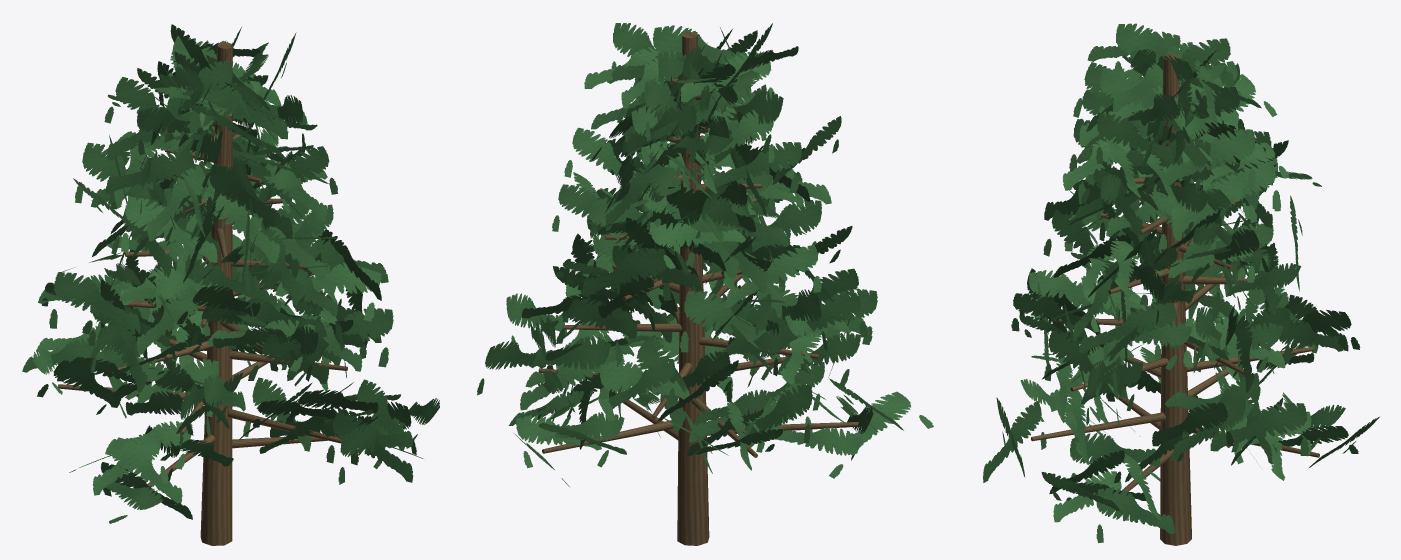
3 views of the same model, side by side, from view 1: azimuth 30°, elevation 25°; view 2: azimuth 150°, elevation 25°; view 3: azimuth 270°, elevation 25° (orthographic). The views are drawn at different scales.
Parts seen in each view (by area): view 1: pine-needle, pine-bark; view 2: pine-needle, pine-bark; view 3: pine-needle, pine-bark.
Part boxes in pixels (left/top/right/bottom): pine-needle: left=22, top=24, right=439, bottom=523; pine-bark: left=58, top=42, right=347, bottom=545; pine-needle: left=477, top=23, right=933, bottom=486; pine-bark: left=538, top=32, right=858, bottom=545; pine-needle: left=983, top=23, right=1379, bottom=543; pine-bark: left=1031, top=53, right=1319, bottom=545.
Bounding box in the file's own units: 7.7 × 10.18 × 7.74.
2 materials, 2 textured.
